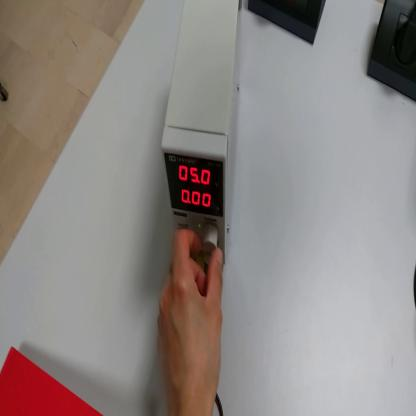hand: (156, 222, 225, 412)
power supply: (163, 2, 244, 269)
register: (2, 348, 105, 415)
socket: (370, 2, 416, 103), (249, 1, 328, 48)
